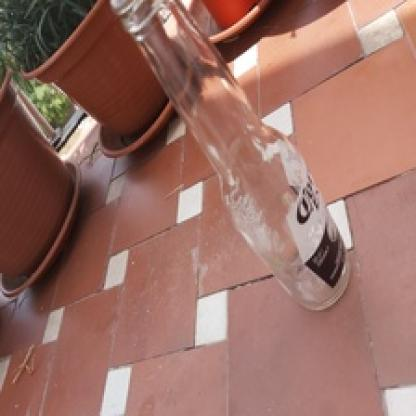Can: (114, 0, 351, 311)
